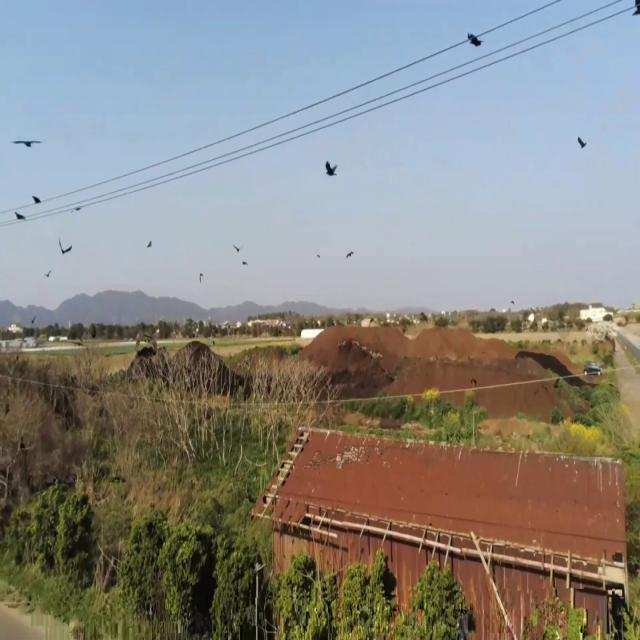bird: (16, 130, 38, 156), (59, 236, 73, 262), (468, 26, 481, 53), (325, 154, 337, 182), (576, 128, 586, 154), (15, 205, 25, 226), (633, 0, 640, 25), (32, 189, 40, 209), (233, 240, 241, 257), (346, 246, 354, 262), (147, 236, 152, 252), (242, 254, 248, 267)
